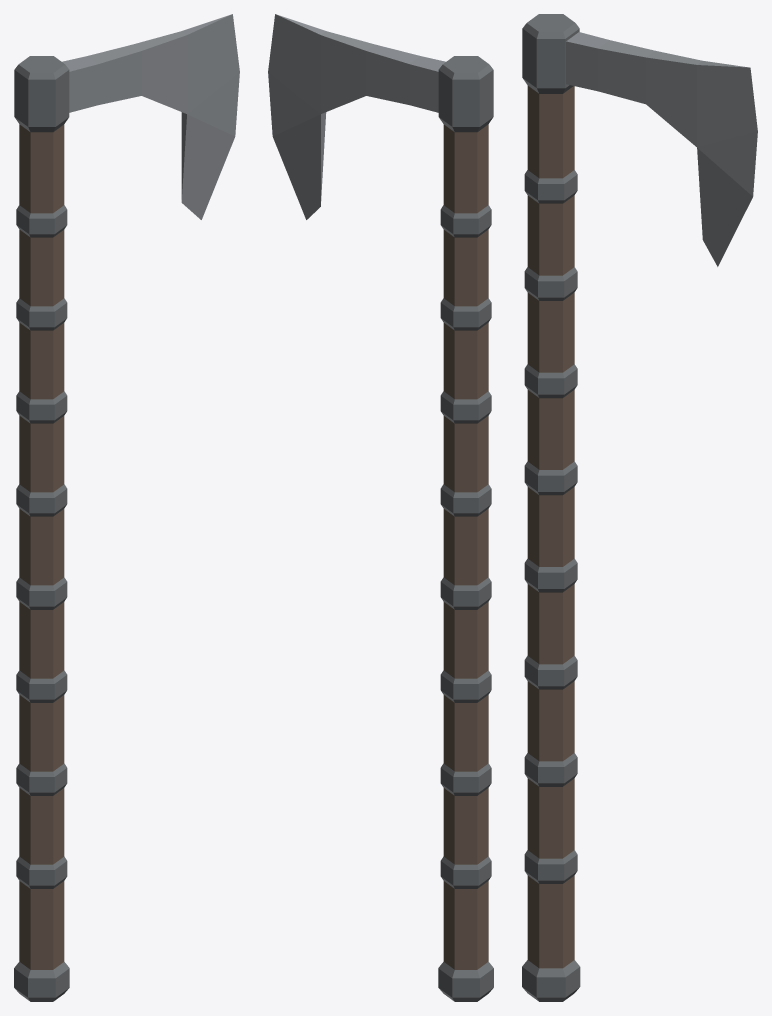
The model's file is Poleaxe.005.fbx.
3 views of the same model, side by side, from view 1: azimuth 30°, elevation 25°; view 2: azimuth 150°, elevation 25°; view 3: azimuth 330°, elevation 25° (orthographic). The views are drawn at different scales.
Visible parts, largest first — view 1: Poleaxe.005; view 2: Poleaxe.005; view 3: Poleaxe.005.
Part boxes in pixels (<box>): Poleaxe.005: <box>14,14,239,1001</box>; Poleaxe.005: <box>268,14,493,1001</box>; Poleaxe.005: <box>522,14,757,1001</box>.
Size of the model in its own units: 14.82 by 60.36 by 3.27.
